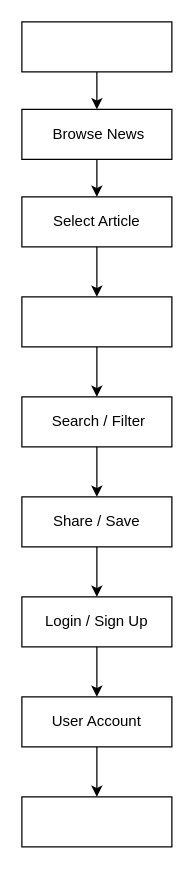
Image size: 194x869. Some labels were removed from this diagram. Here are the shapes that lost their labels. From the top down, the centre of each, then its label:
(x=96, y=46): Landing Page
(x=96, y=321): Read Article
(x=96, y=821): Logout
